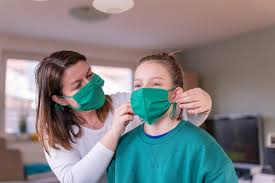FaceMask: (130, 88, 171, 125)
